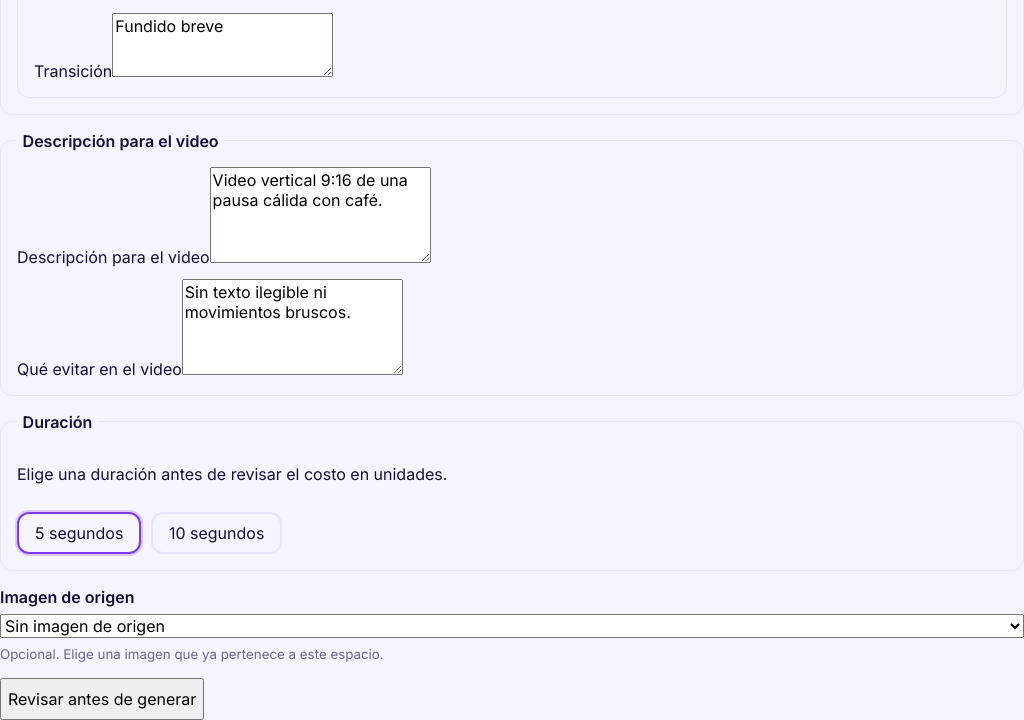
Scenario: VideoGenerationStep › available capability shows the full preflight before confirmation
The image size is (1024, 720).
(page scrolled)
What coordinates should you click on to do the following:
click the button "Revisar antes de generar"
I would click on:
 (102, 699)
Its box is x1=0 y1=678 x2=204 y2=719.
(page scrolled)
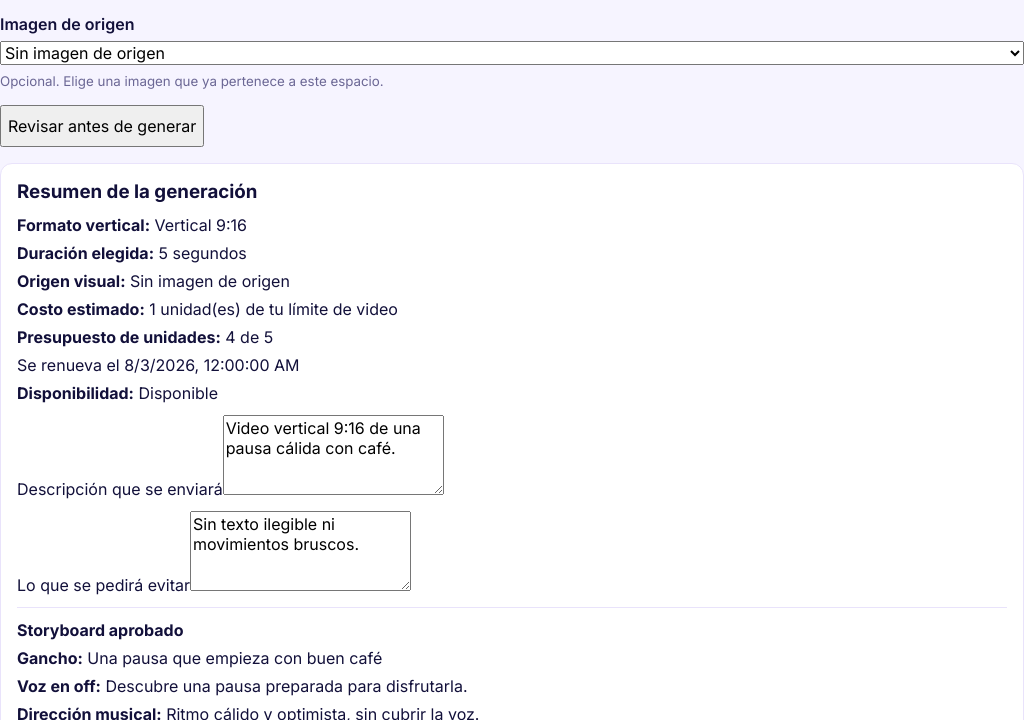
expect the heading "Resumen de la generación" is shown: met, box x1=17 y1=180 x2=258 y2=203
expect the text box labelled "Descripción que se enviará" holds "Video vertical 9:16 de una pausa cálida con café.": met, box x1=223 y1=415 x2=444 y2=495
expect the text "Disponible" is shown: met, box x1=138 y1=383 x2=218 y2=403
